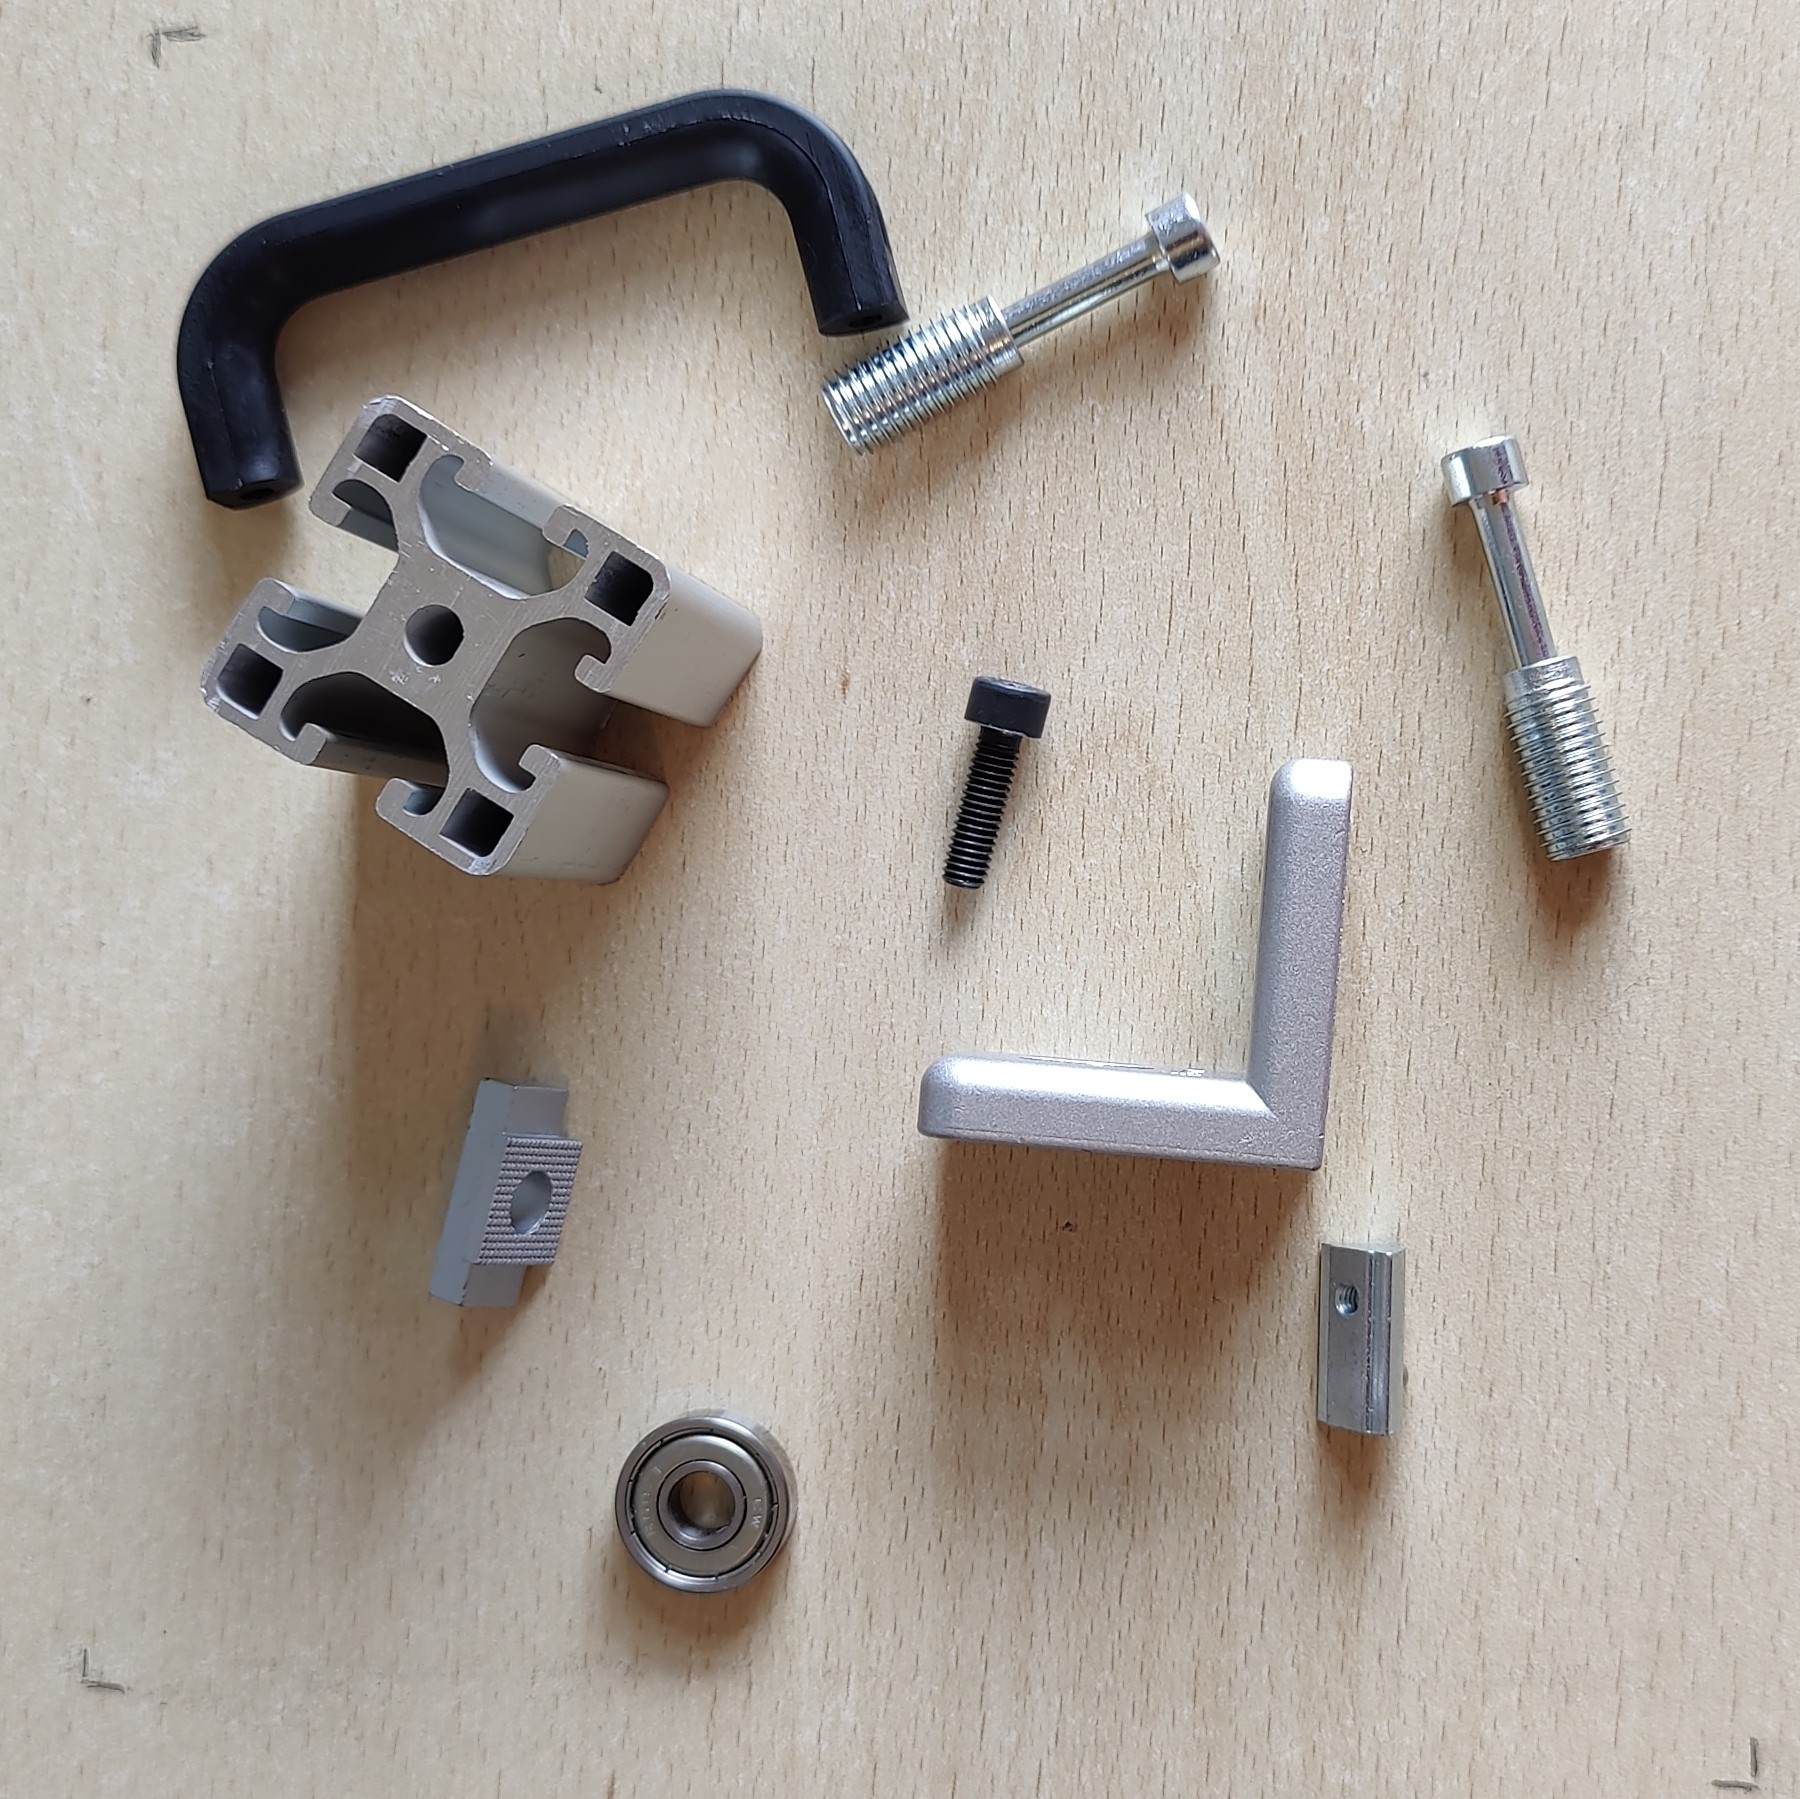Aluminium Extension: (196, 390, 766, 886)
Ball Bearing: (613, 1410, 800, 1598)
Multiwinkel: (917, 756, 1355, 1173)
Pull Handle: (175, 84, 912, 512)
Shoulder Socket Head Cap Screw: (815, 188, 1220, 460), (1439, 433, 1634, 863)
Socket Head Cap Screw: (940, 672, 1054, 895)
T Nut Square: (423, 1076, 586, 1313)
T Spring Nut: (1311, 1234, 1413, 1442)
